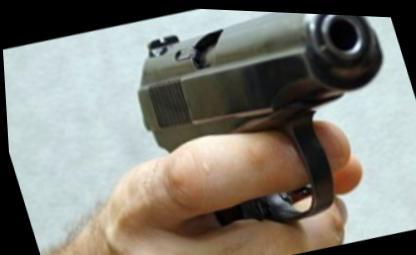pistol: (110, 3, 415, 247)
